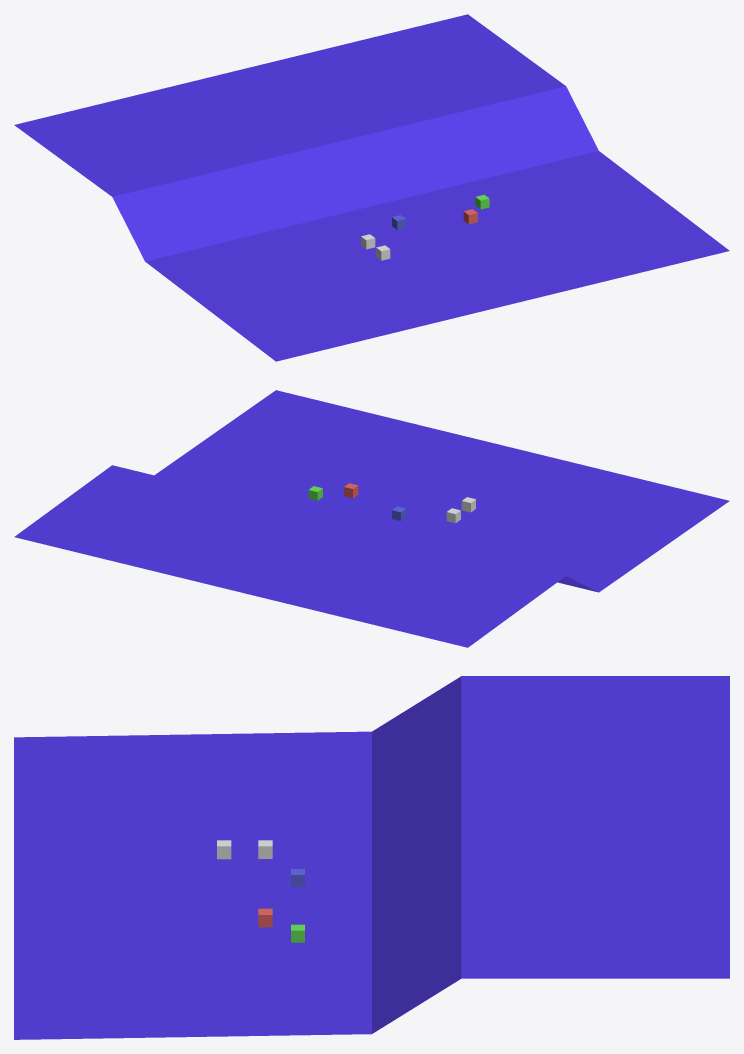
File: welt.glb
The picture shows the model from 3 angles, top to bottom: view 1: azimuth 30°, elevation 25°; view 2: azimuth 150°, elevation 25°; view 3: azimuth 270°, elevation 25°; orthographic projection. The views are drawn at different scales.
Visible parts, largest first — view 1: Plane; view 2: Plane; view 3: Plane.
Boxes of the visible parts, <box> form: Plane: <box>14,14,729,361</box>; Plane: <box>14,390,729,647</box>; Plane: <box>14,676,729,1039</box>.
Size of the model in its own units: 100 by 9.44 by 100.
